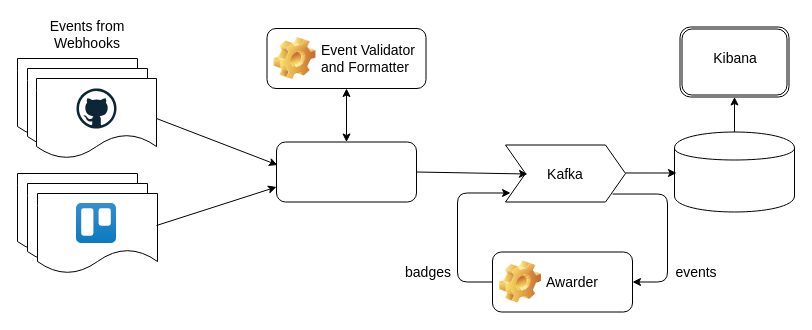
This 812x330 diagram has some shape labels left out. The shapes that lost their labels are listed below. From the top down, each one's centre as x and y in pixels, then its label:
At [346,171]: "Flask Application".
At [734,171]: "Elasticsearch".
